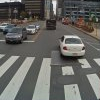crosswalk: (0, 54, 100, 100)
